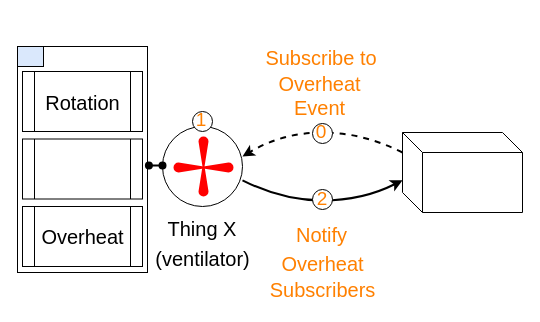
This 540x322 diagram has some shape labels left out. Here are the shapes that lost their labels. From the top down, the box of each, then its label:
(16, 46, 44, 66): TD
(22, 138, 142, 199): Rotate
(402, 132, 522, 212): Thing Y
